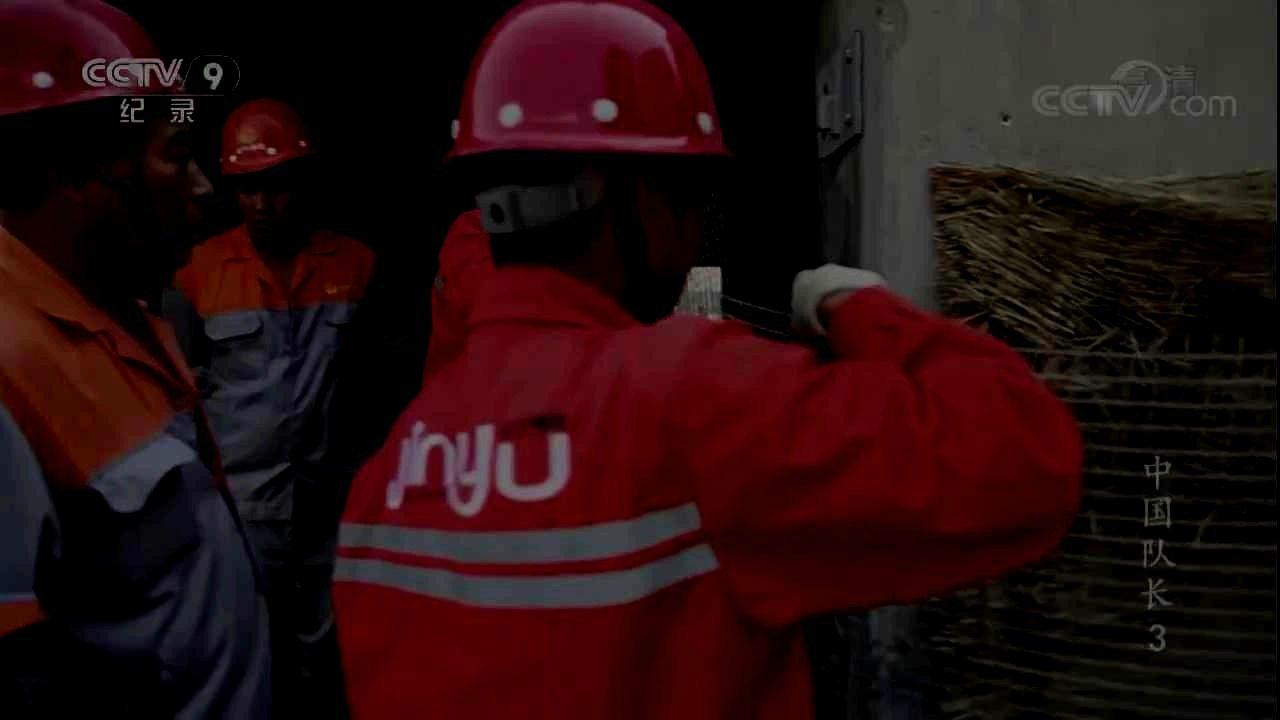helmet: (446, 1, 731, 324), (1, 1, 214, 275), (218, 96, 315, 240)
